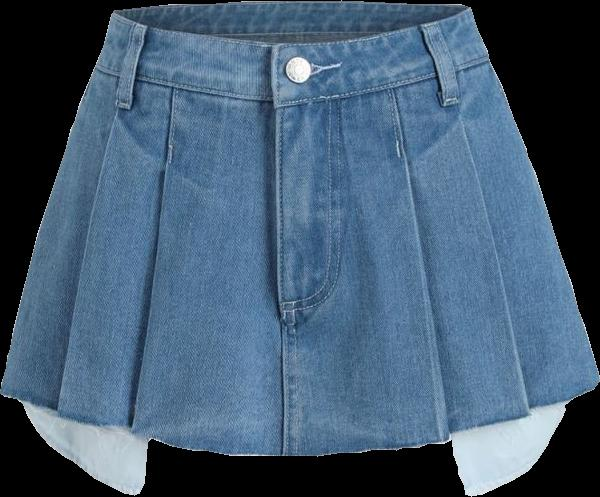Hemline: (0, 377, 599, 456)
Waistline: (95, 55, 491, 104), (111, 5, 470, 47)
